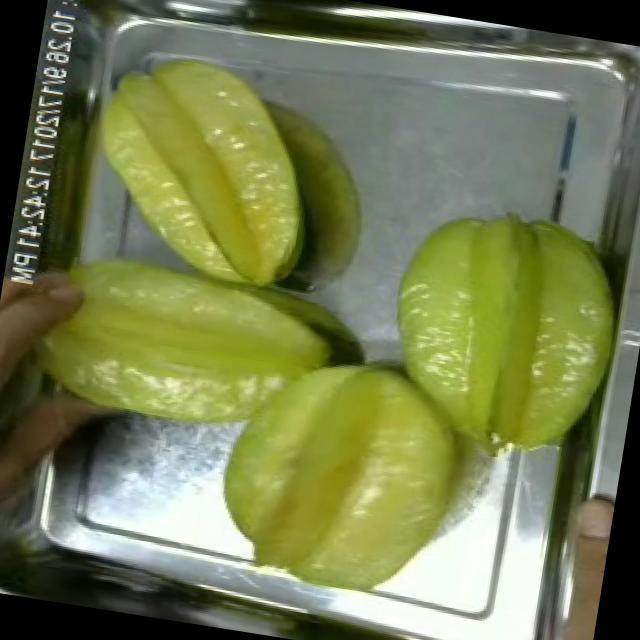fruit: (9, 213, 366, 464), (194, 325, 491, 620), (364, 184, 640, 476), (66, 31, 338, 306), (522, 480, 617, 640)
